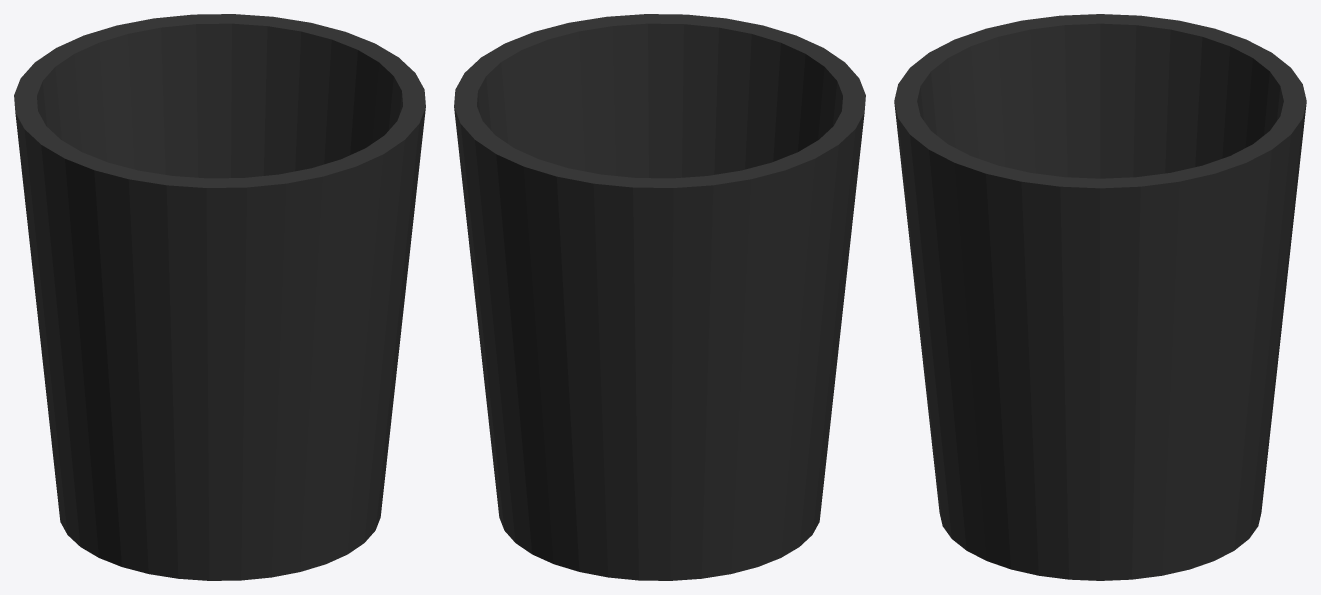
Rendered from Trash_Can.fbx.
3 renders of one model, left to right at view 1: azimuth 30°, elevation 25°; view 2: azimuth 150°, elevation 25°; view 3: azimuth 270°, elevation 25°, orthographic.
Parts seen in each view (by area): view 1: Cylinder; view 2: Cylinder; view 3: Cylinder.
Boxes of the visible parts, x1=… form: Cylinder: x1=14, y1=14, x2=425, y2=580; Cylinder: x1=454, y1=14, x2=865, y2=580; Cylinder: x1=894, y1=14, x2=1306, y2=580.
Bounding box in the file's own units: 40.06 × 44.11 × 40.06.
Materials: 1 (1 with a texture image).
